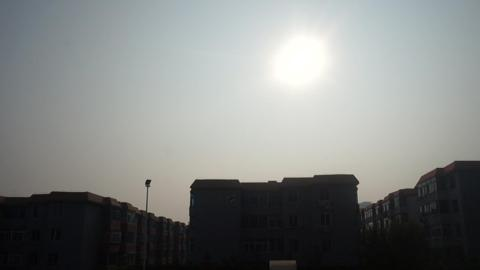UAV: (226, 194, 236, 202)
